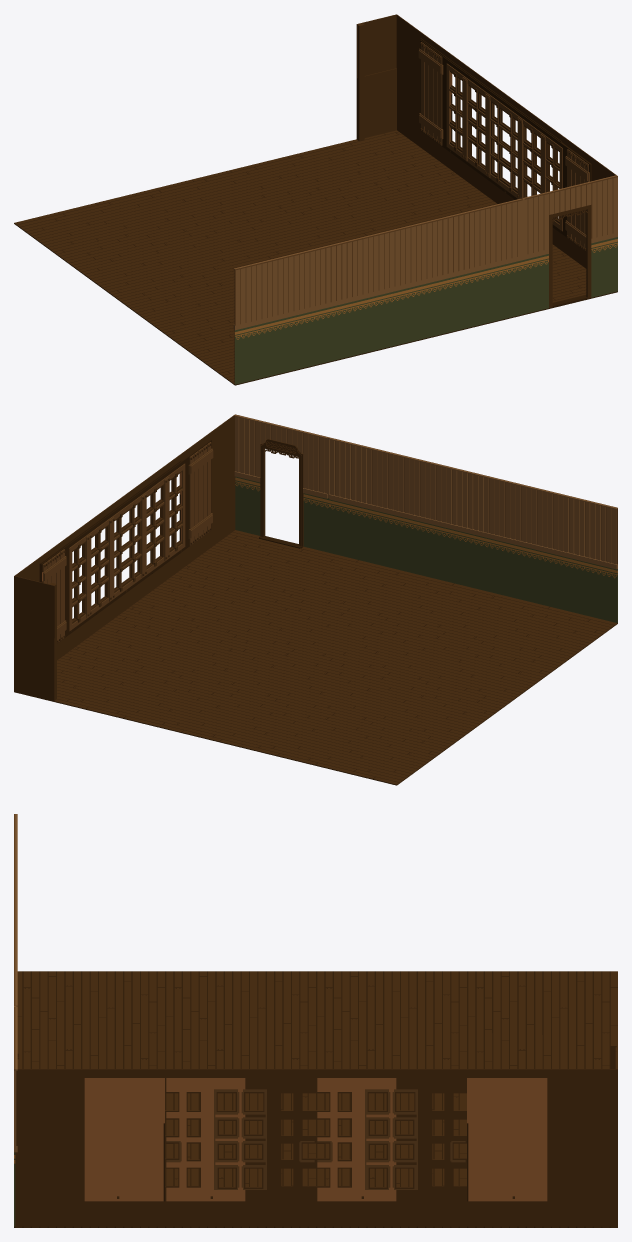
The model's file is MainRoom.fbx.
3 renders of one model, top to bottom at view 1: azimuth 30°, elevation 25°; view 2: azimuth 150°, elevation 25°; view 3: azimuth 270°, elevation 25°, orthographic. The views are drawn at different scales.
Visible parts, largest first — view 1: floor_wood.014; view 2: floor_wood.014; view 3: floor_wood.014.
Part boxes in pixels (box(x1,y1,x2,y2)): floor_wood.014: box(14, 14, 617, 385); floor_wood.014: box(14, 414, 617, 785); floor_wood.014: box(14, 814, 617, 1227).
Bounding box in the file's own units: 756 × 219 × 756.
